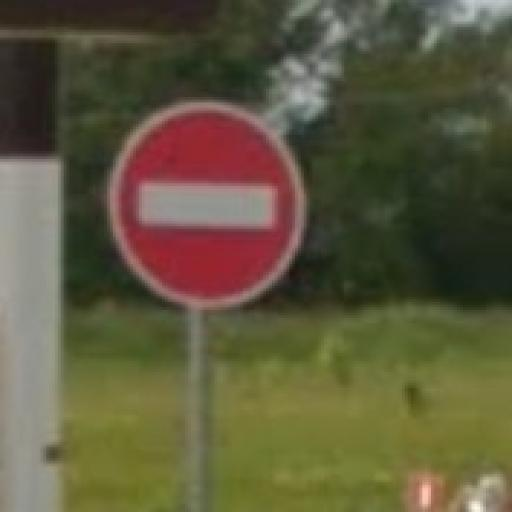traffic_sign: (108, 101, 308, 308)
